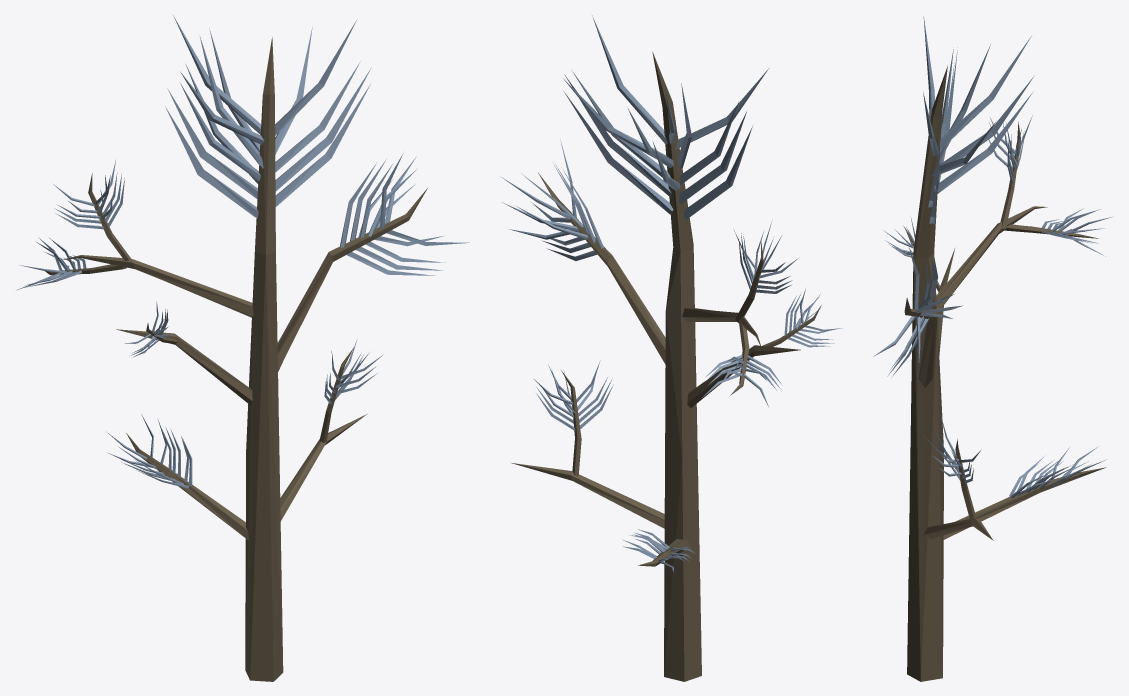
The model's file is Blue_Spruce_3_2.fbx.
The picture shows the model from 3 angles, left to right: view 1: azimuth 30°, elevation 25°; view 2: azimuth 150°, elevation 25°; view 3: azimuth 270°, elevation 25°; orthographic projection.
Visible parts, largest first — view 1: Spurce_3_2; view 2: Spurce_3_2; view 3: Spurce_3_2.
Part boxes in pixels (x1,y1,x2,y2): Spurce_3_2: [16, 15, 469, 681]; Spurce_3_2: [501, 15, 842, 681]; Spurce_3_2: [873, 16, 1111, 681].
Size of the model in its own units: 165 by 287 by 101.
